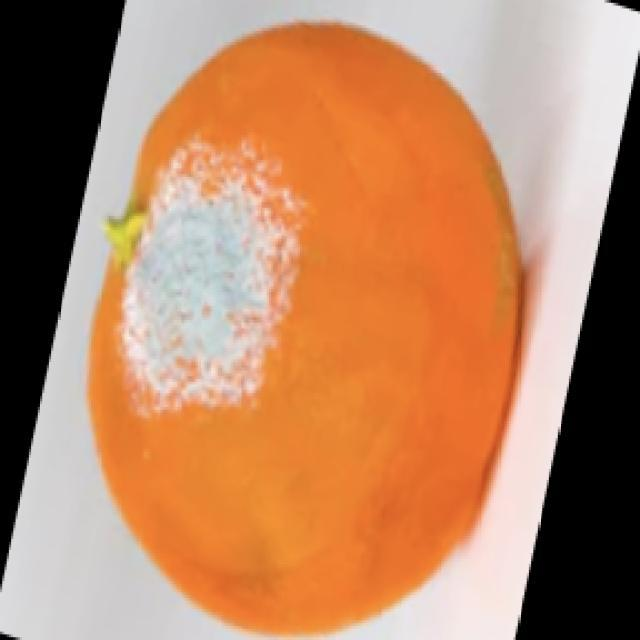sedikit-busuk: (88, 23, 523, 634)
